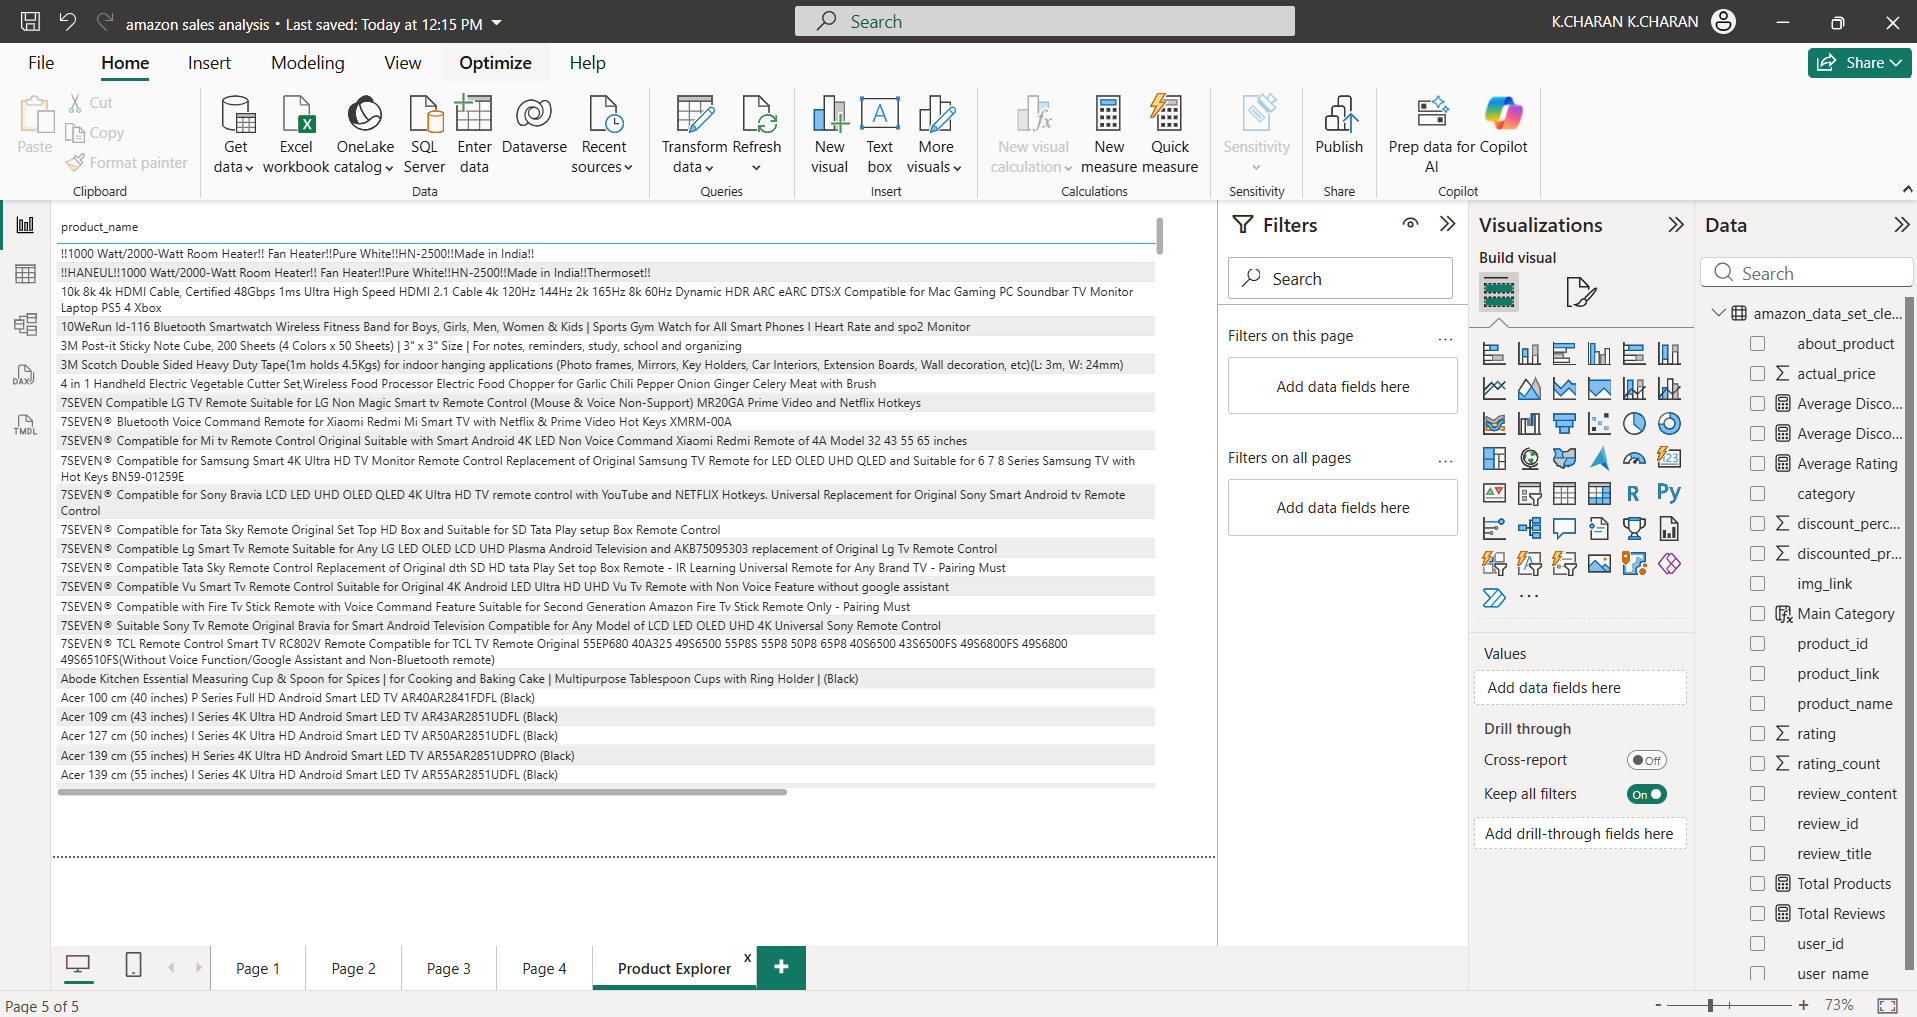

The page's visual inventory and layout, read from the dashboard file:
{"tool":"powerbi","page":{"name":"Product Explorer","canvas":[1280,720],"ordinal":4},"visuals":[{"type":"tableEx","fields":{"Values":["amazon_data_set_cleaned.product_name","amazon_data_set_cleaned.Main Category","amazon_data_set_cleaned.actual_price","amazon_data_set_cleaned.discounted_price","amazon_data_set_cleaned.discount_percentage","amazon_data_set_cleaned.rating","amazon_data_set_cleaned.rating_count"]},"box":[0,13.5,1226.5,645.7],"z":0}]}

Visuals, with their boxes on the page's 1280x720 design canvas (x1, y1, x2, y2). These are canvas units, not pixel positions in the 1917x1017 screenshot, which may show the page scaled, cropped or inside an application window:
tableEx - amazon_data_set_cleaned.product_name x amazon_data_set_cleaned.Main Category: bbox=[0, 14, 1226, 659]
